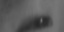LeftEyeFatigue: (8, 6, 58, 32)
